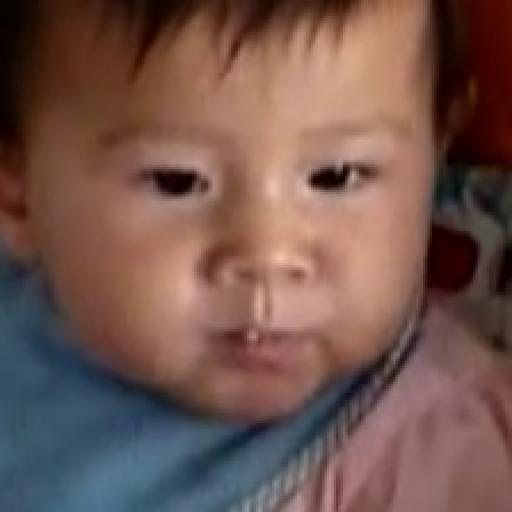Autism: (52, 6, 432, 396)
